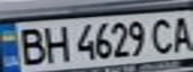2: (109, 18, 130, 58)
4: (72, 20, 96, 62)
6: (93, 19, 115, 61)
9: (127, 17, 151, 57)
A: (169, 12, 193, 53)
B: (12, 25, 48, 66)
C: (148, 15, 178, 54)
H: (39, 22, 72, 64)
